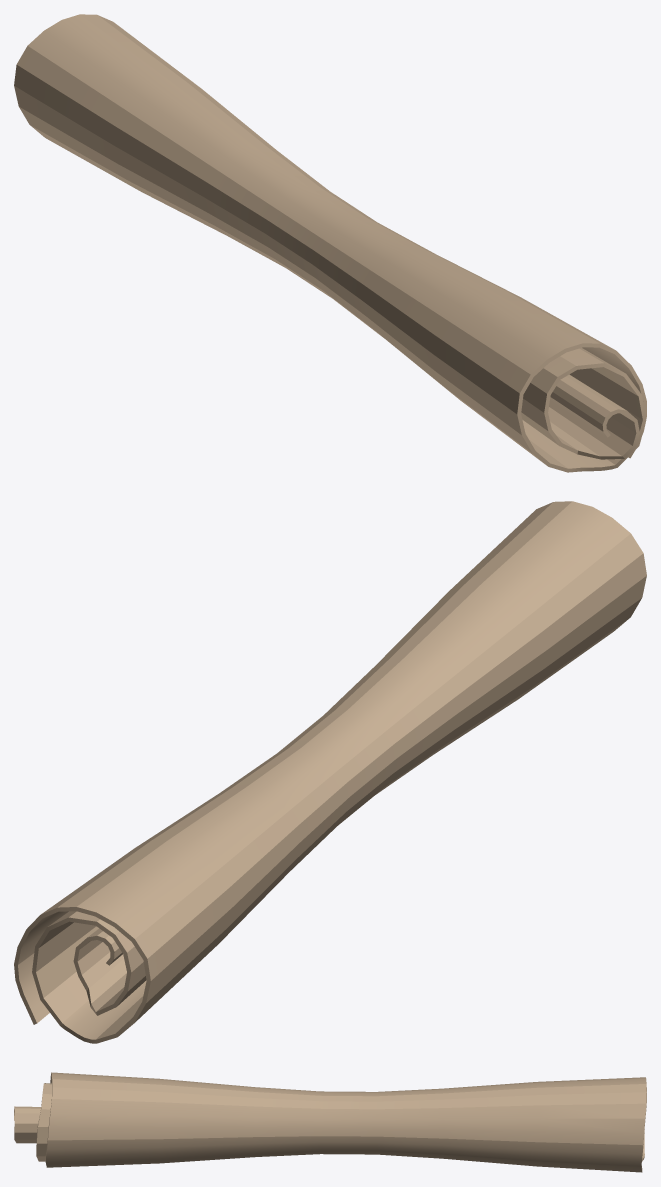
File: Scroll2.fbx
The picture shows the model from 3 angles, top to bottom: view 1: azimuth 30°, elevation 25°; view 2: azimuth 150°, elevation 25°; view 3: azimuth 270°, elevation 25°; orthographic projection. The views are drawn at different scales.
Parts seen in each view (by area): view 1: IndividualScroll2; view 2: IndividualScroll2; view 3: IndividualScroll2.
Part boxes in pixels (<box>): IndividualScroll2: <box>14,14,646,472</box>; IndividualScroll2: <box>14,501,646,1043</box>; IndividualScroll2: <box>14,1072,646,1172</box>.
Size of the model in its own units: 9.27 by 8.51 by 55.07.
